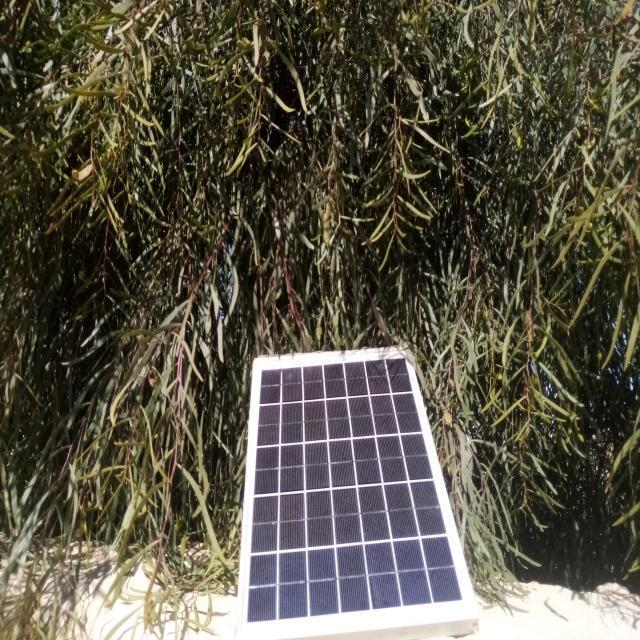Normal Solar Panel: (243, 347, 474, 630)
